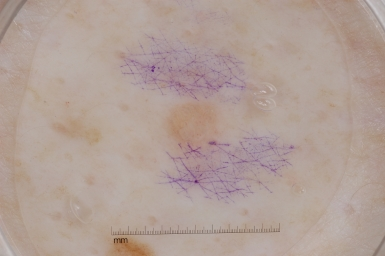seborrheic keratosis: (157, 97, 229, 153)
